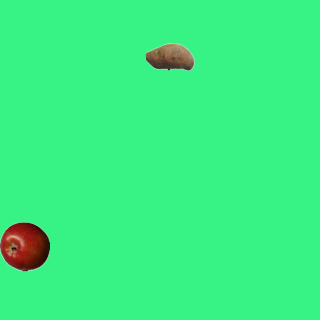Apple Braeburn: (0, 221, 49, 271)
Potato Sweet: (144, 31, 194, 81)
